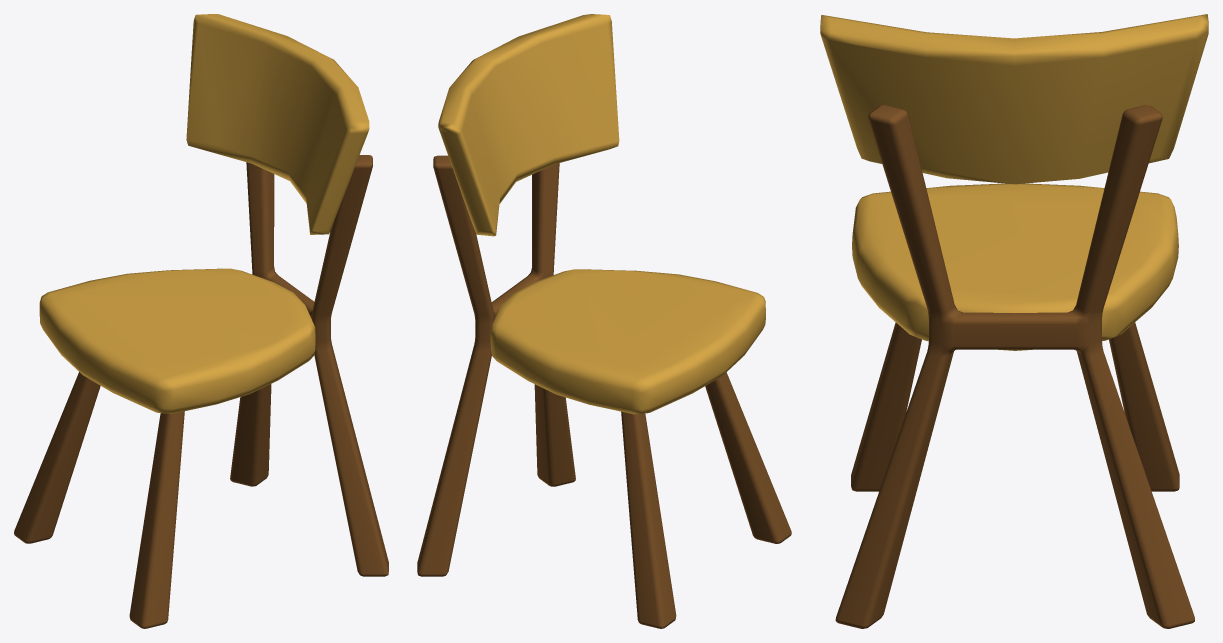
File: chair_03_yellow.fbx
The picture shows the model from 3 angles, left to right: view 1: azimuth 30°, elevation 25°; view 2: azimuth 150°, elevation 25°; view 3: azimuth 270°, elevation 25°; orthographic projection. The views are drawn at different scales.
Parts seen in each view (by area): view 1: chair_03_yellow; view 2: chair_03_yellow; view 3: chair_03_yellow.
Boxes of the visible parts, x1,y1,x2,y2 form: chair_03_yellow: [14, 14, 388, 628]; chair_03_yellow: [417, 14, 791, 628]; chair_03_yellow: [820, 14, 1208, 628].
Bounding box in the file's own units: 58.11 × 101 × 60.72.
1 material, 1 textured.
